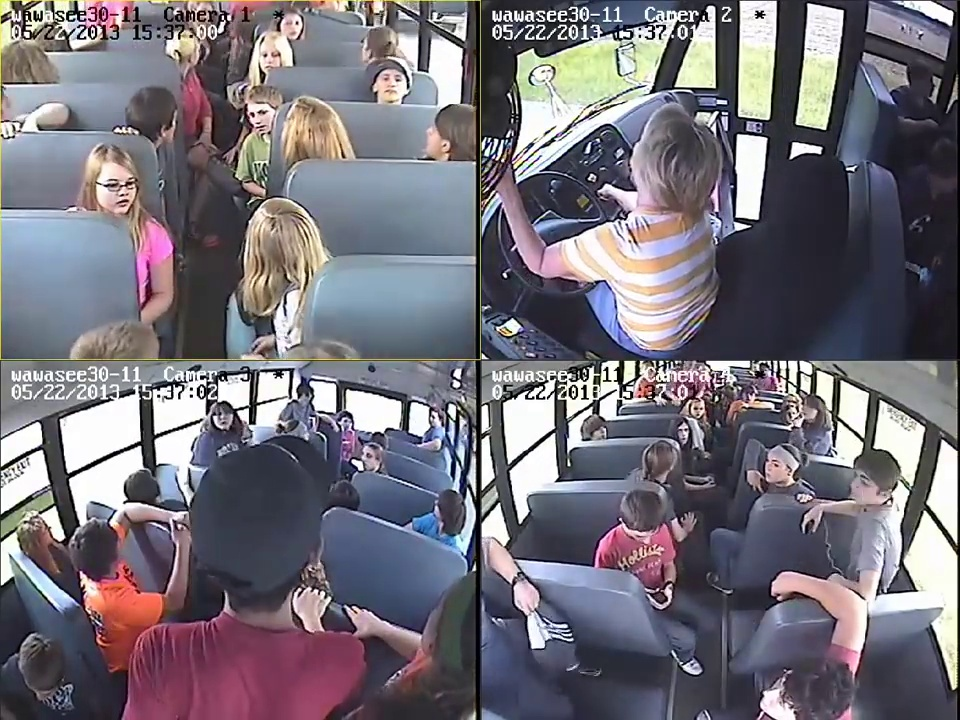face: (757, 674, 800, 720), (96, 163, 137, 211), (375, 70, 407, 101), (851, 469, 878, 504), (257, 42, 287, 70), (763, 461, 791, 482), (251, 103, 270, 133), (210, 410, 234, 429), (359, 446, 379, 467), (587, 419, 607, 438), (281, 16, 299, 37), (670, 423, 689, 442), (800, 403, 818, 419), (689, 403, 705, 420), (427, 411, 440, 426), (340, 414, 352, 430)
